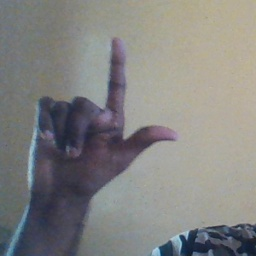L: (27, 35, 181, 198)
